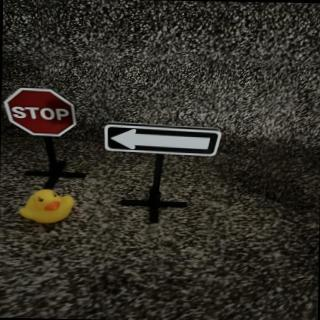duck_regular: (19, 190, 76, 226)
sign_oneway_left: (105, 122, 223, 158)
sign_stop: (4, 89, 78, 140)
